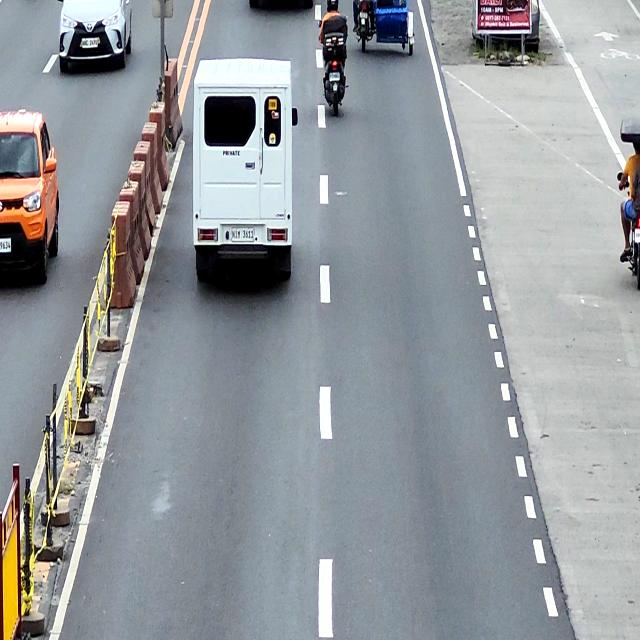Car: (192, 57, 298, 282), (0, 109, 59, 286), (56, 0, 132, 73)
License-Plate: (231, 228, 254, 241), (0, 238, 12, 253), (81, 38, 98, 48), (329, 72, 340, 82), (634, 228, 640, 245), (360, 12, 368, 19)
Motorcycle: (317, 17, 348, 116)
Tricycle: (618, 119, 640, 292), (356, 0, 414, 57)
